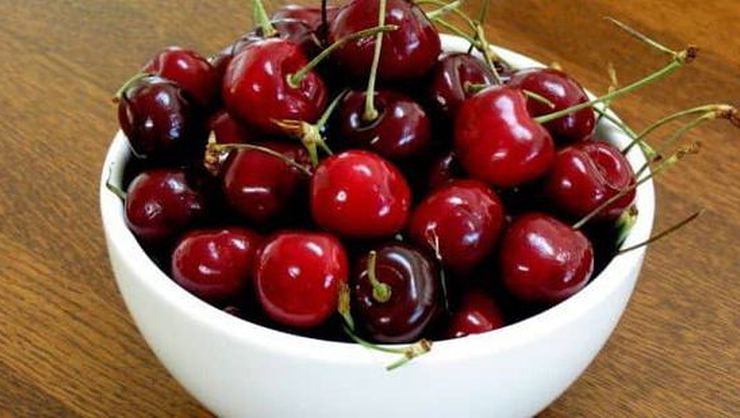Cherry: (344, 244, 448, 348), (446, 87, 562, 180), (303, 150, 422, 233), (217, 38, 325, 129), (497, 213, 599, 296)
